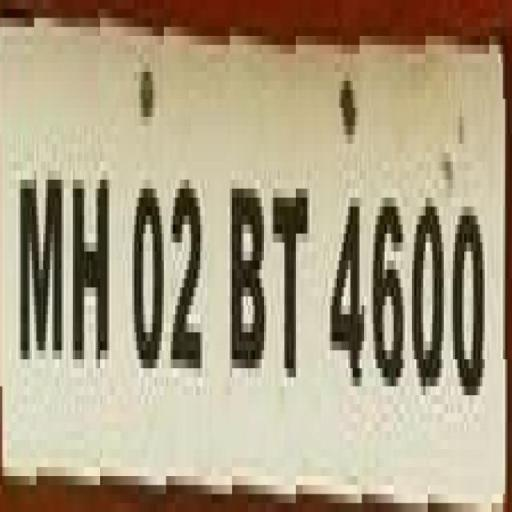number plate: (16, 1, 512, 496)
